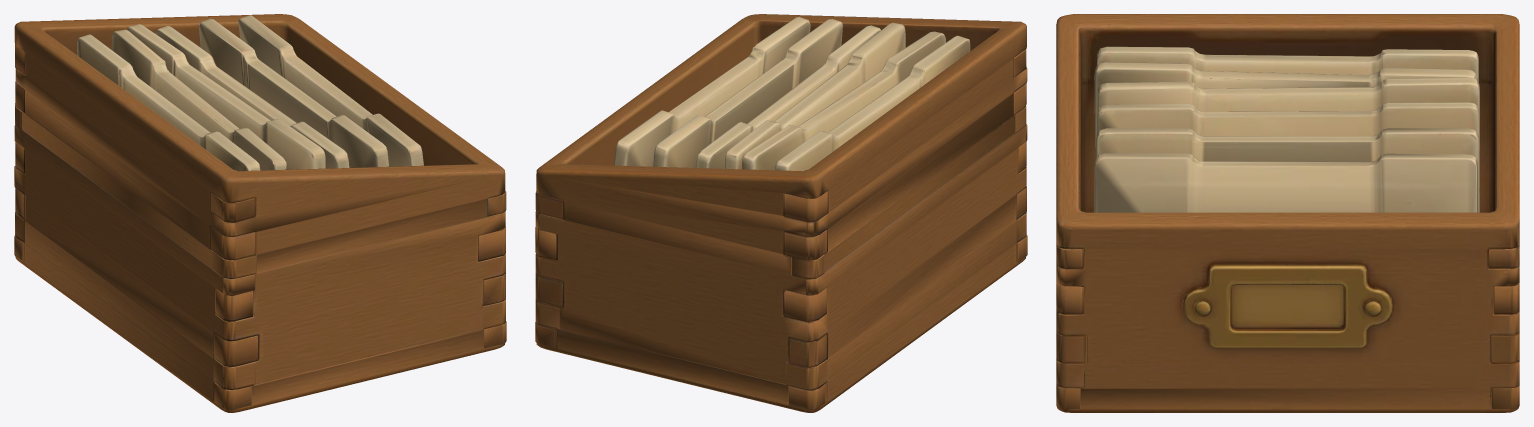
The model's file is card-box-lod0.glb.
3 views of the same model, side by side, from view 1: azimuth 30°, elevation 25°; view 2: azimuth 150°, elevation 25°; view 3: azimuth 270°, elevation 25° (orthographic). The views are drawn at different scales.
Parts seen in each view (by area): view 1: ROOT_CardBox; view 2: ROOT_CardBox; view 3: ROOT_CardBox.
Boxes of the visible parts, bbox=[...] form: ROOT_CardBox: bbox=[14, 14, 506, 412]; ROOT_CardBox: bbox=[535, 14, 1027, 412]; ROOT_CardBox: bbox=[1056, 14, 1519, 412].
Bounding box in the file's own units: 0.7794 × 0.6035 × 0.998.
Materials: 1 (1 with a texture image).
